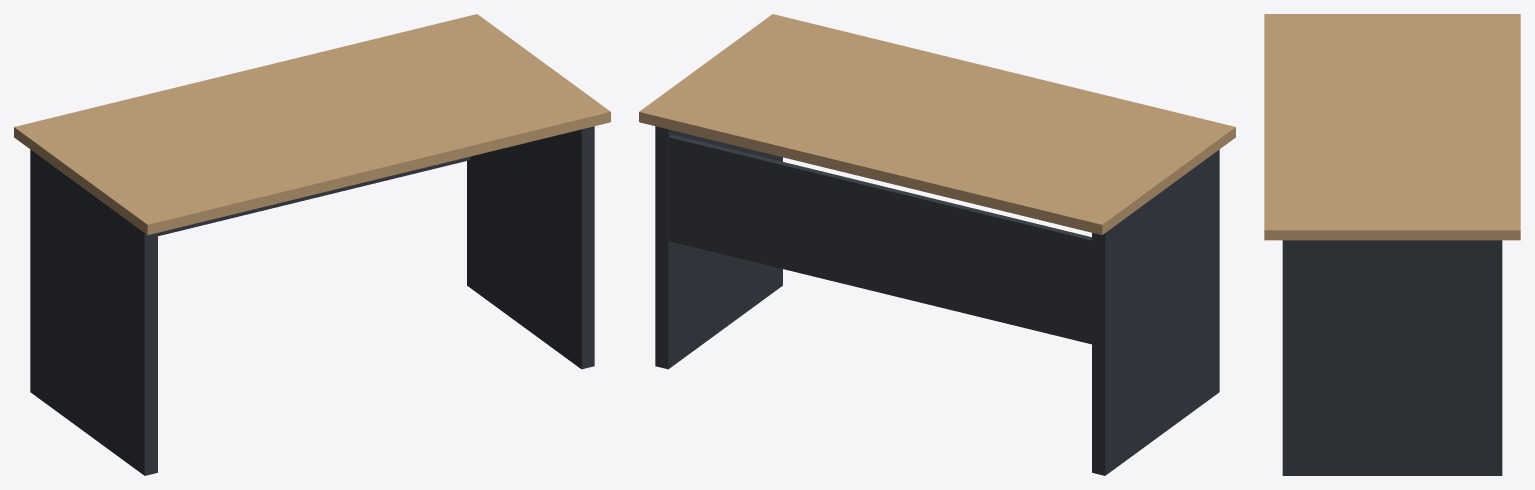
Rendered from mesa-reta.glb.
3 renders of one model, left to right at view 1: azimuth 30°, elevation 25°; view 2: azimuth 150°, elevation 25°; view 3: azimuth 270°, elevation 25°, orthographic. The views are drawn at different scales.
Parts seen in each view (by area): view 1: deskStraight; view 2: deskStraight; view 3: deskStraight.
Part boxes in pixels (x1,y1,x2,y2): deskStraight: (14,14,610,475); deskStraight: (639,14,1235,475); deskStraight: (1264,14,1520,475).
Size of the model in its own units: 1.4 by 0.75 by 0.7.
